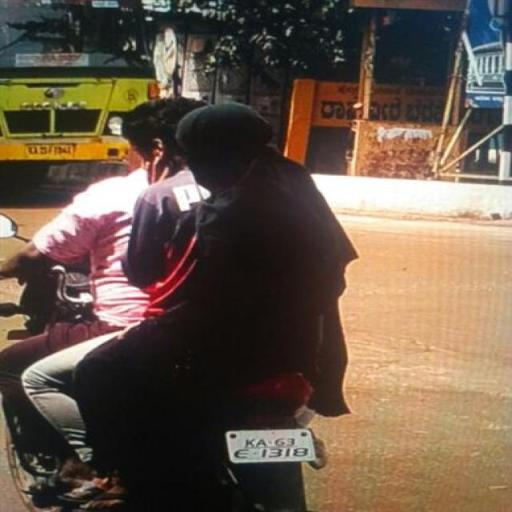tripple riding: (8, 92, 380, 421)
